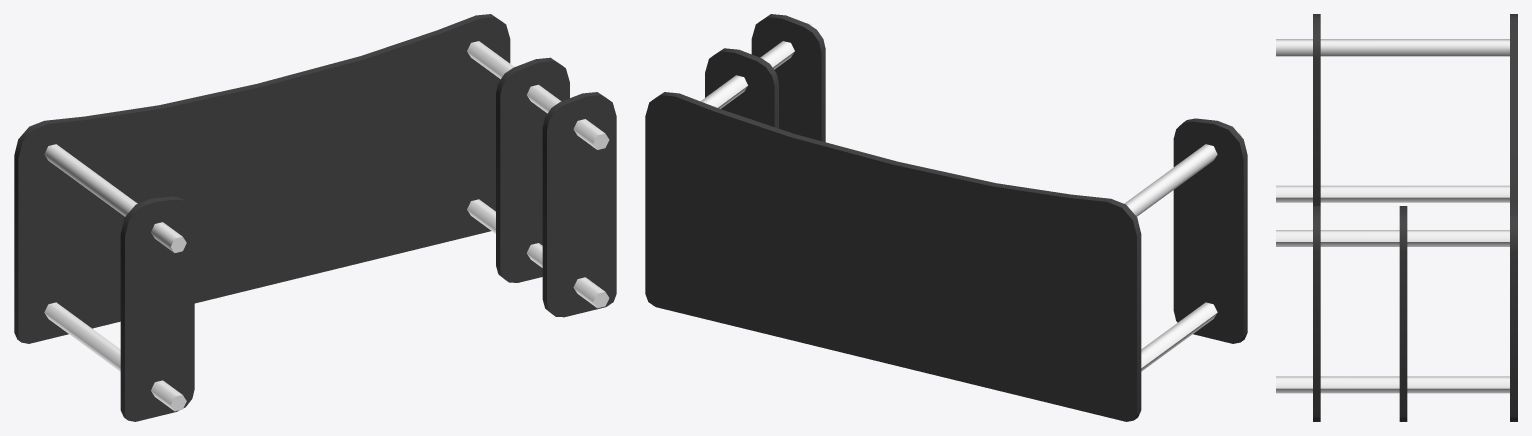
File: office-desk.glb
3 renders of one model, left to right at view 1: azimuth 30°, elevation 25°; view 2: azimuth 150°, elevation 25°; view 3: azimuth 270°, elevation 25°, orthographic. The views are drawn at different scales.
Parts seen in each view (by area): view 1: office_table_008; view 2: office_table_008; view 3: office_table_008.
Boxes of the visible parts, <box> form: office_table_008: <box>14,14,616,421</box>; office_table_008: <box>645,14,1247,421</box>; office_table_008: <box>1276,14,1517,421</box>.
Size of the model in its own units: 1.58 by 0.663 by 0.7294.
1 material, 1 textured.
